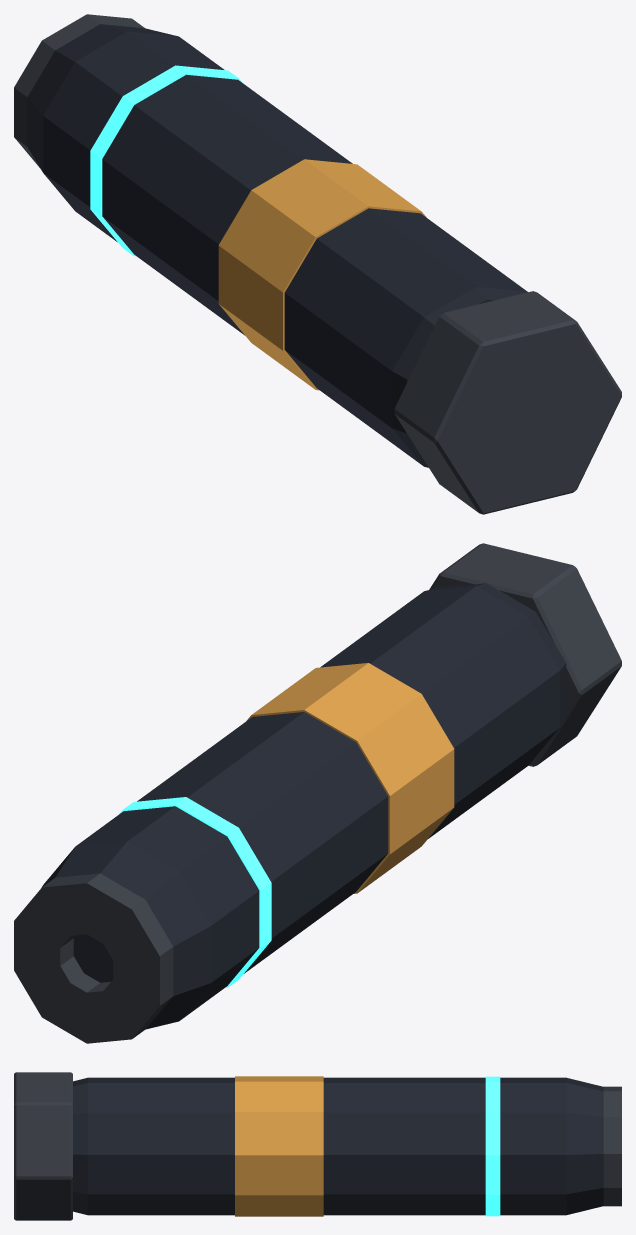
File: suppressor.glb
3 views of the same model, one above another, from view 1: azimuth 30°, elevation 25°; view 2: azimuth 150°, elevation 25°; view 3: azimuth 270°, elevation 25° (orthographic). The views are drawn at different scales.
Parts seen in each view (by area): view 1: suppressor_body, suppressor_collar, suppressor_band, suppressor_core, suppressor_cap; view 2: suppressor_body, suppressor_cap, suppressor_band, suppressor_collar, suppressor_core; view 3: suppressor_body, suppressor_band, suppressor_collar, suppressor_cap, suppressor_core.
Part boxes in pixels (bbox=[...]): suppressor_body: bbox=[27, 24, 527, 467]; suppressor_collar: bbox=[394, 291, 621, 514]; suppressor_band: bbox=[218, 159, 426, 390]; suppressor_core: bbox=[90, 65, 242, 256]; suppressor_cap: bbox=[14, 14, 144, 167]; suppressor_body: bbox=[41, 583, 566, 1029]; suppressor_cap: bbox=[14, 873, 173, 1043]; suppressor_band: bbox=[246, 663, 454, 893]; suppressor_collar: bbox=[429, 543, 621, 766]; suppressor_core: bbox=[119, 797, 271, 987]; suppressor_body: bbox=[73, 1077, 603, 1215]; suppressor_band: bbox=[235, 1076, 323, 1216]; suppressor_collar: bbox=[14, 1072, 72, 1220]; suppressor_cap: bbox=[603, 1086, 621, 1206]; suppressor_core: bbox=[485, 1076, 500, 1216].
Size of the model in its own units: 0.0404 by 0.0388 by 0.165.
